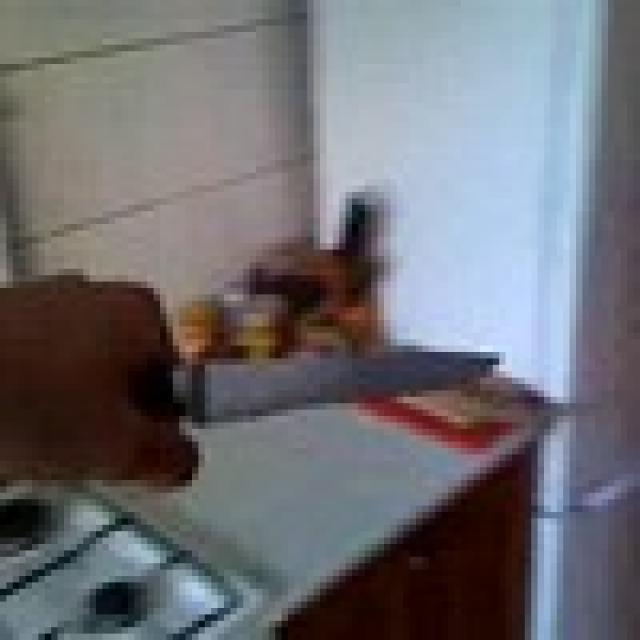Knife: (154, 332, 506, 436)
